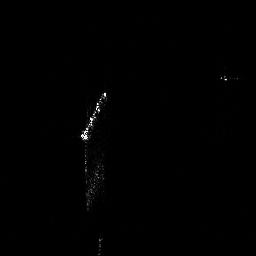ship: (78, 89, 110, 216)
